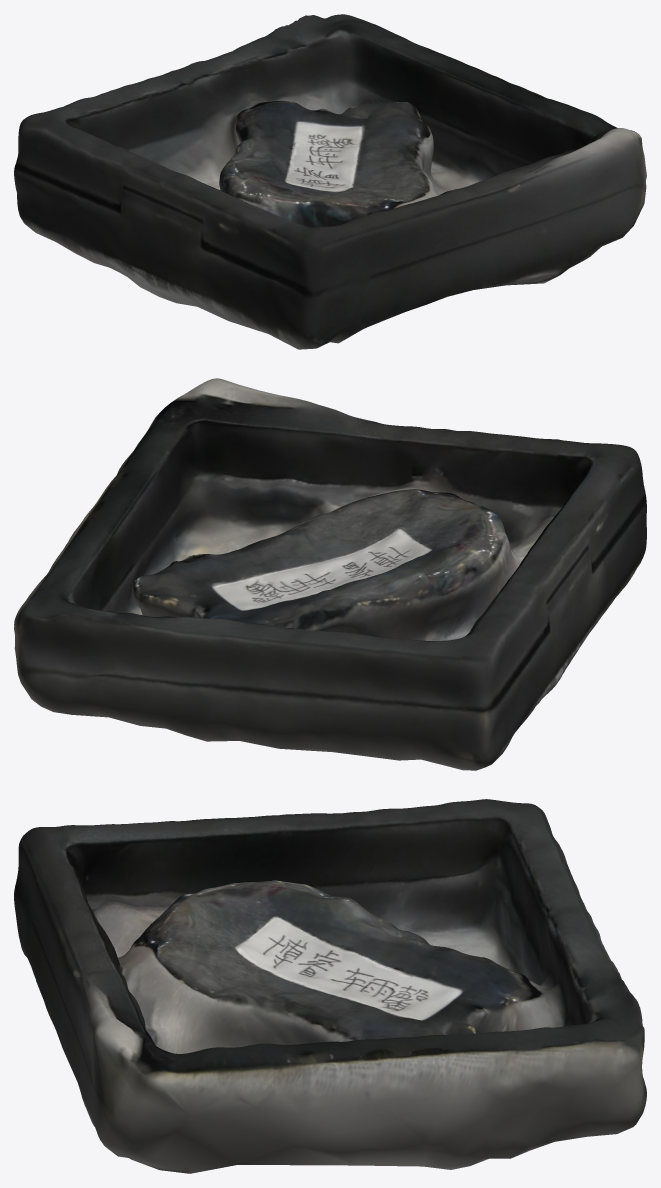
The picture shows the model from 3 angles, top to bottom: view 1: azimuth 30°, elevation 25°; view 2: azimuth 150°, elevation 25°; view 3: azimuth 270°, elevation 25°; orthographic projection. The views are drawn at different scales.
Size of the model in its own units: 0.7578 by 0.2886 by 0.7519.
Materials: 1 (1 with a texture image).
